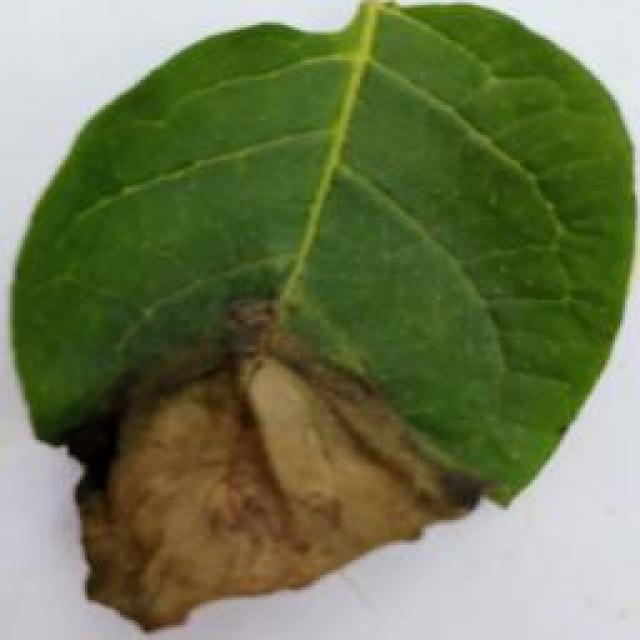Potato_Late_Blight: (2, 8, 636, 622)
